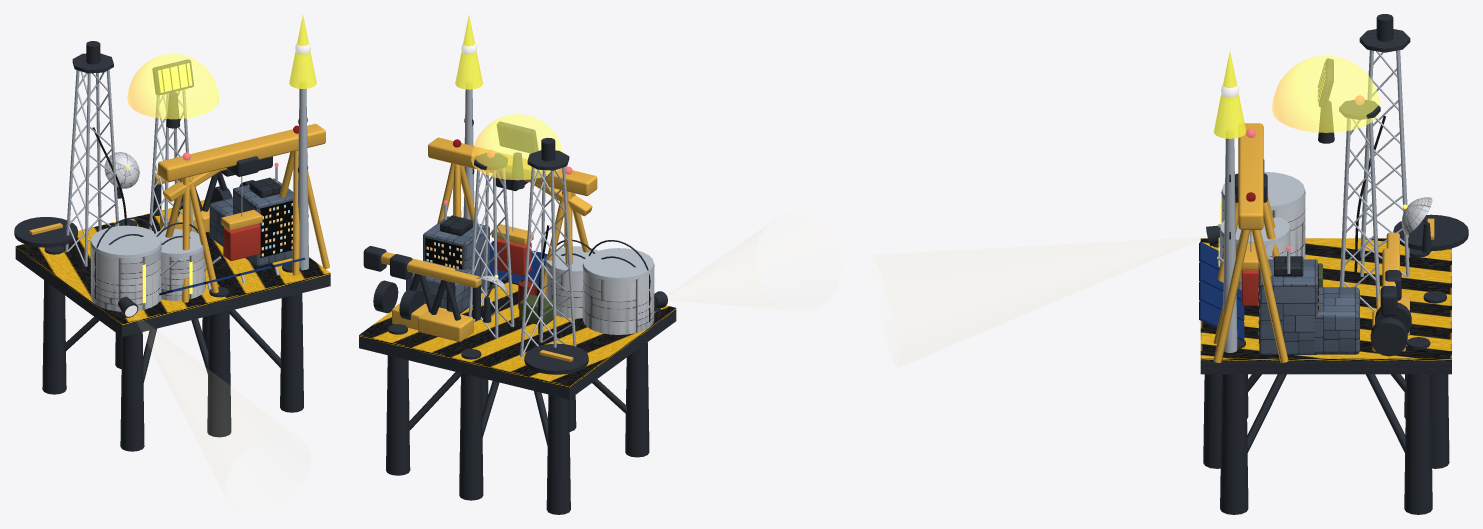
File: platform-T5.glb
3 renders of one model, left to right at view 1: azimuth 30°, elevation 25°; view 2: azimuth 150°, elevation 25°; view 3: azimuth 270°, elevation 25°, orthographic. The views are drawn at different scales.
Visible parts, largest first — view 1: object 14, object 189, object 13, object 140, object 162, object 11, object 7, object 5, object 1, anim:trolley, anim:rot (×2), object 141 (+18 smaller); view 2: object 14, object 189, object 13, object 140, object 9, object 3, object 1, anim:swing (×2), object 5, object 162, object 141, anim:trolley (+15 smaller); view 3: object 14, object 189, object 169, object 3, object 7, object 13, object 167, object 162, object 135, object 9, object 11, anim:flame (+13 smaller).
Part boxes in pixels (x1,y1,x2,y2): object 14: (15,200,330,325); object 189: (127,54,219,119); object 13: (15,248,330,336); object 140: (90,245,161,311); object 162: (158,123,325,181); object 11: (207,287,231,437); object 7: (280,263,303,412); object 5: (120,332,144,451); object 1: (42,246,66,394); anim:trolley: (221,156,262,260); anim:rot (×2): (104,59,193,188); object 141: (90,225,161,258); object 14: (359,273,676,387); object 189: (471,114,562,180); object 13: (359,310,676,399); object 140: (583,268,654,334); object 9: (459,349,483,500); object 3: (386,324,410,475); object 1: (546,394,570,514); anim:swing (×2): (363,246,481,319); object 5: (625,342,649,457); object 162: (428,137,597,196); object 141: (582,248,654,281); anim:trolley: (491,170,533,275); object 14: (1200,238,1451,360); object 189: (1272,55,1380,132); object 169: (1259,259,1317,354); object 3: (1404,337,1432,514); object 7: (1220,339,1248,514); object 13: (1200,360,1451,374); object 167: (1313,287,1359,354); object 162: (1238,123,1263,229); object 135: (1223,138,1237,352); object 9: (1423,291,1449,468); object 11: (1203,374,1221,468); anim:flame: (1213,51,1246,138).
Size of the model in its own units: 4.22 by 6.11 by 7.15.
25 materials, 6 textured.
